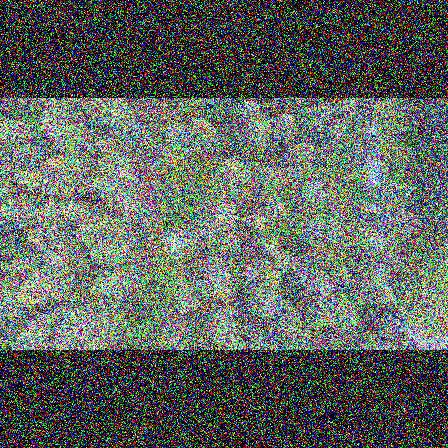Sick: (158, 229, 191, 263), (307, 274, 338, 305), (108, 194, 141, 223), (189, 217, 221, 246), (300, 175, 329, 205), (35, 253, 64, 277), (218, 234, 242, 256), (240, 268, 265, 287)
